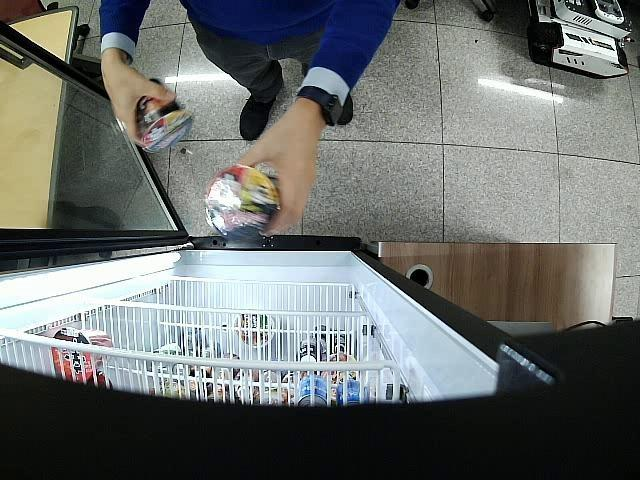08_buldak_S: (206, 166, 280, 236), (136, 78, 193, 154)
